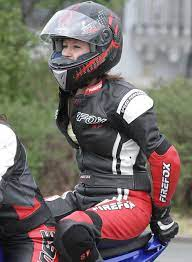helmets: (34, 0, 129, 89)
